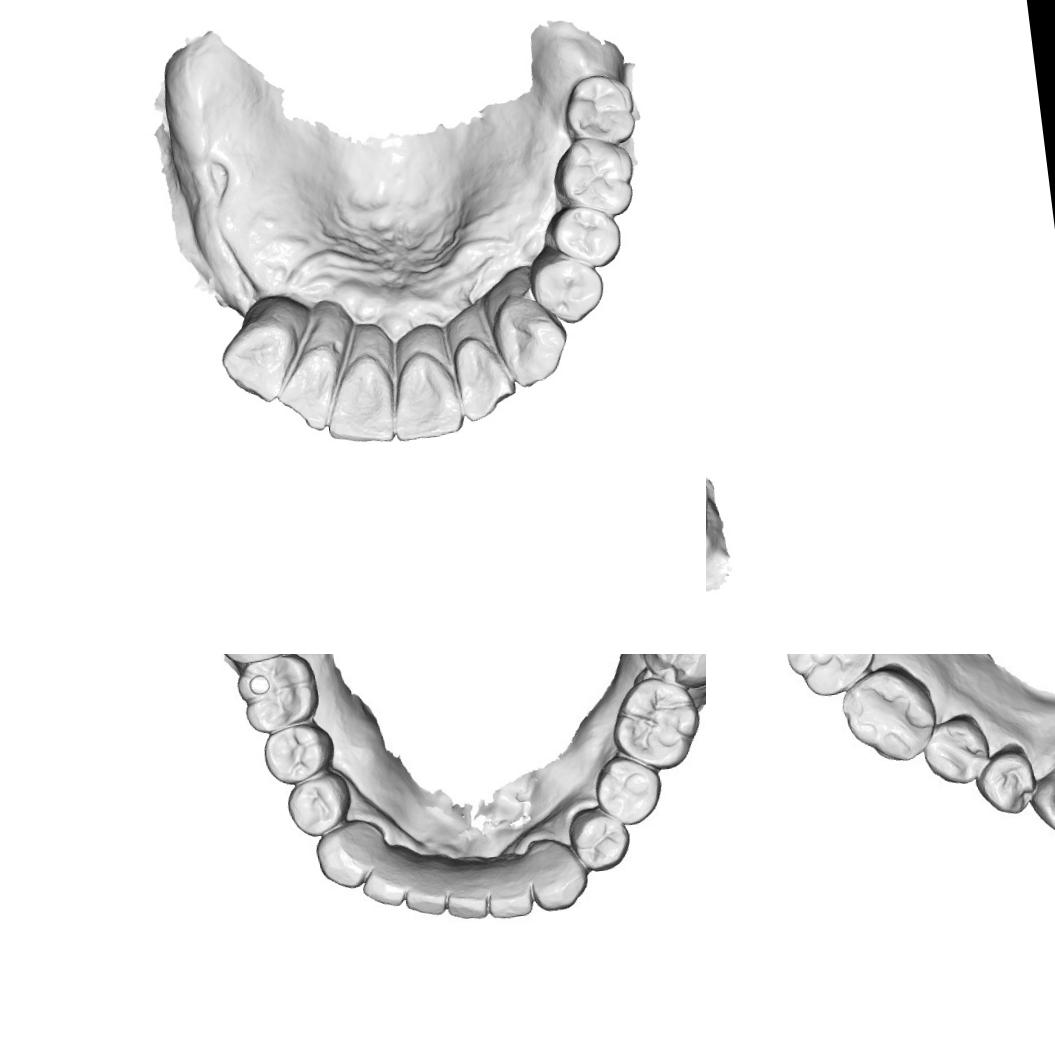canine: (212, 310, 304, 410), (492, 288, 574, 391), (523, 839, 592, 918), (316, 821, 385, 890), (1020, 761, 1055, 842)
incisor: (384, 342, 468, 446), (316, 346, 400, 450), (269, 338, 352, 439), (452, 328, 518, 424), (399, 866, 452, 922), (440, 873, 494, 925), (482, 874, 538, 924), (358, 863, 411, 911)
molar: (833, 656, 941, 776), (610, 674, 704, 766), (548, 134, 640, 225), (237, 654, 325, 736), (558, 68, 639, 152), (779, 654, 881, 704), (639, 654, 706, 689)
premolar: (524, 243, 608, 330), (544, 199, 625, 275), (596, 752, 662, 826), (263, 720, 332, 784), (918, 720, 986, 783), (287, 775, 351, 833), (572, 809, 632, 870), (977, 752, 1030, 814)
